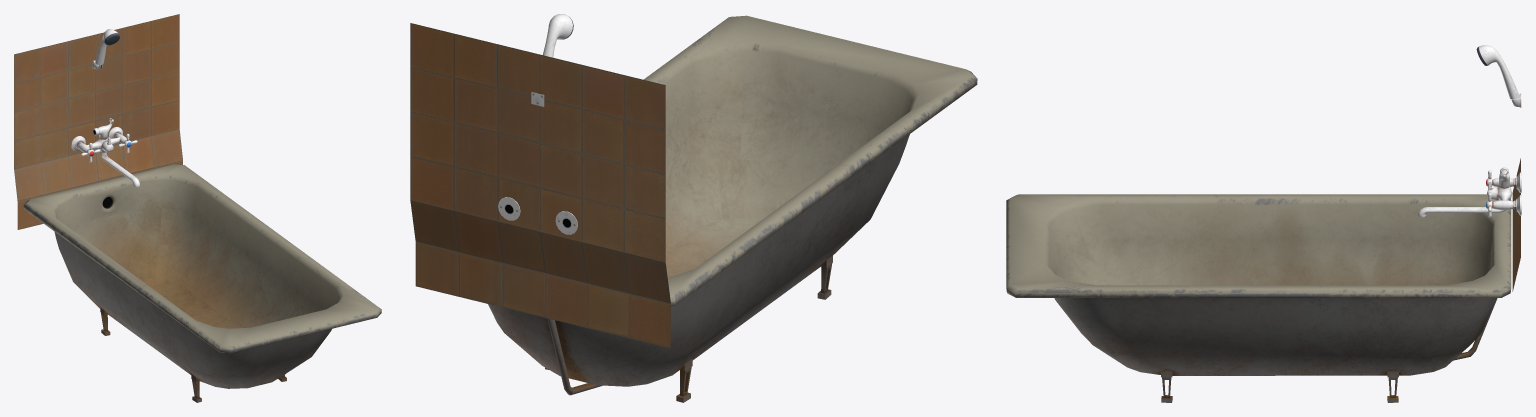
Rendered from old_bath__game-ready__pbr.glb.
3 views of the same model, side by side, from view 1: azimuth 30°, elevation 25°; view 2: azimuth 150°, elevation 25°; view 3: azimuth 270°, elevation 25° (orthographic). The views are drawn at different scales.
Parts seen in each view (by area): view 1: bath, wall, shower_faucet_base, shower_head; view 2: bath, wall, shower_faucet_base, shower_head; view 3: bath, shower_faucet_base, shower_head, wall, shower_faucet.
Part boxes in pixels (box(x1,y1,x2,y2)): bath: box(23, 164, 381, 402); wall: box(14, 14, 182, 229); shower_faucet_base: box(71, 118, 126, 152); shower_head: box(95, 29, 119, 69); bath: box(488, 15, 977, 402); wall: box(410, 23, 670, 348); shower_faucet_base: box(498, 197, 577, 234); shower_head: box(543, 14, 573, 57); bath: box(1006, 194, 1511, 402); shower_faucet_base: box(1493, 167, 1521, 215); shower_head: box(1476, 45, 1519, 99); wall: box(1512, 158, 1520, 291); shower_faucet: box(1418, 207, 1505, 217).
Bounding box in the file's own units: 0.9619 × 1.48 × 2.09.
3 materials, 3 textured.
